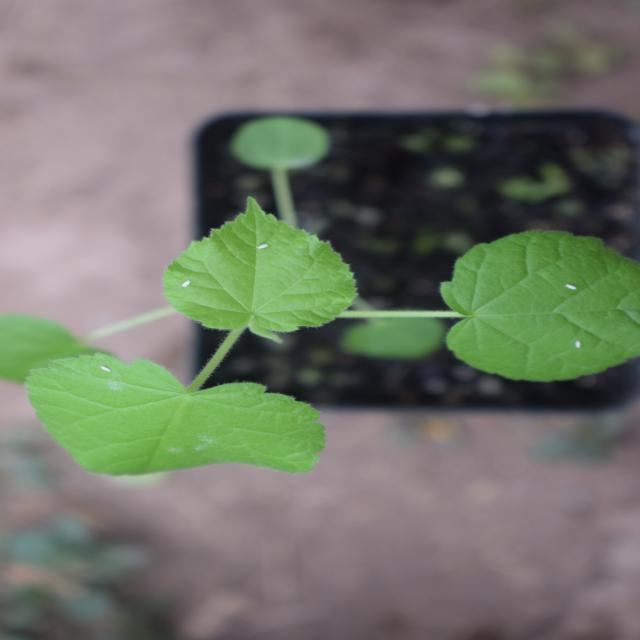abutilon theophrasti: (143, 23, 456, 622)
